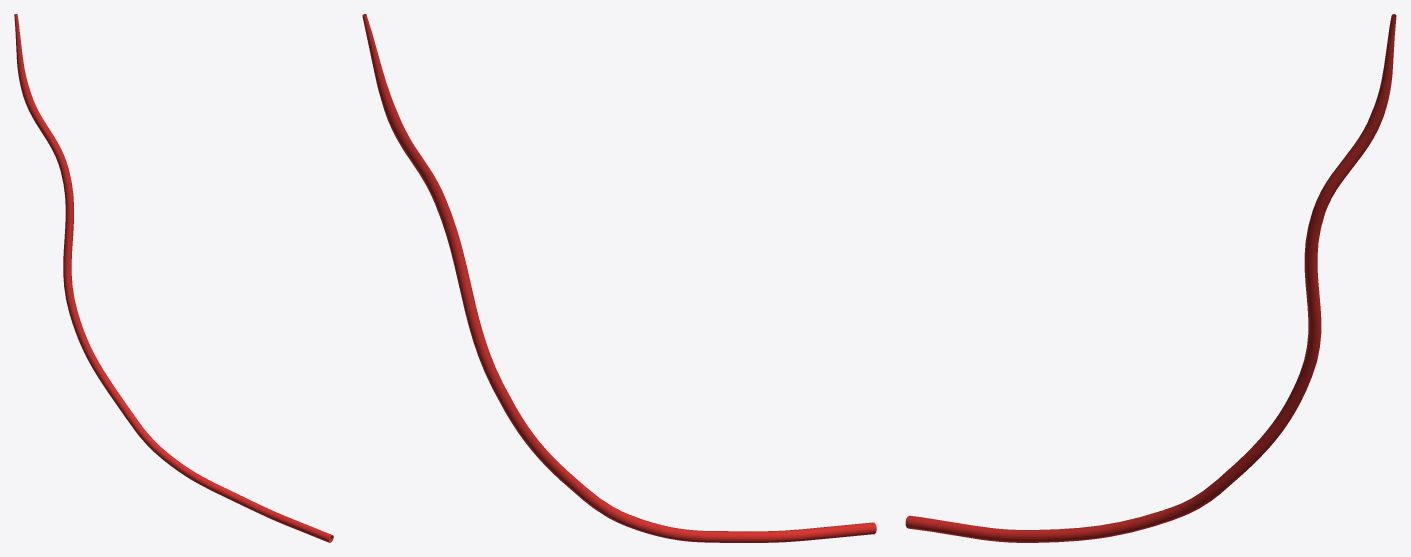
The model's file is circulatorio-posterior-auricular-vein-l.glb.
3 views of the same model, side by side, from view 1: azimuth 90°, elevation 25°; view 2: azimuth 150°, elevation 25°; view 3: azimuth 270°, elevation 25° (orthographic). The views are drawn at different scales.
Parts seen in each view (by area): view 1: Posterior auricular vein.l; view 2: Posterior auricular vein.l; view 3: Posterior auricular vein.l.
Part boxes in pixels (<box>): Posterior auricular vein.l: <box>14,14,333,542</box>; Posterior auricular vein.l: <box>362,14,876,542</box>; Posterior auricular vein.l: <box>905,14,1396,542</box>.
Bounding box in the file's own units: 0.028 × 0.0564 × 0.0378.
